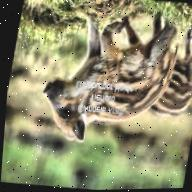boar: (31, 0, 175, 158), (143, 32, 192, 123)
